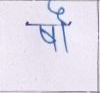ai_matra: (46, 0, 67, 23)
